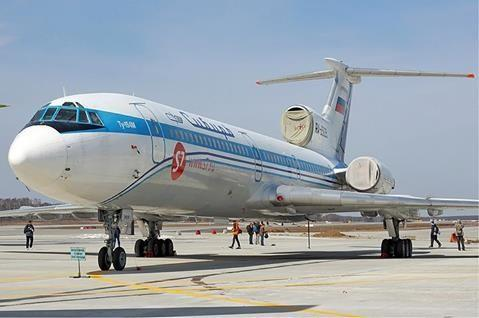airplane: (5, 58, 479, 260)
